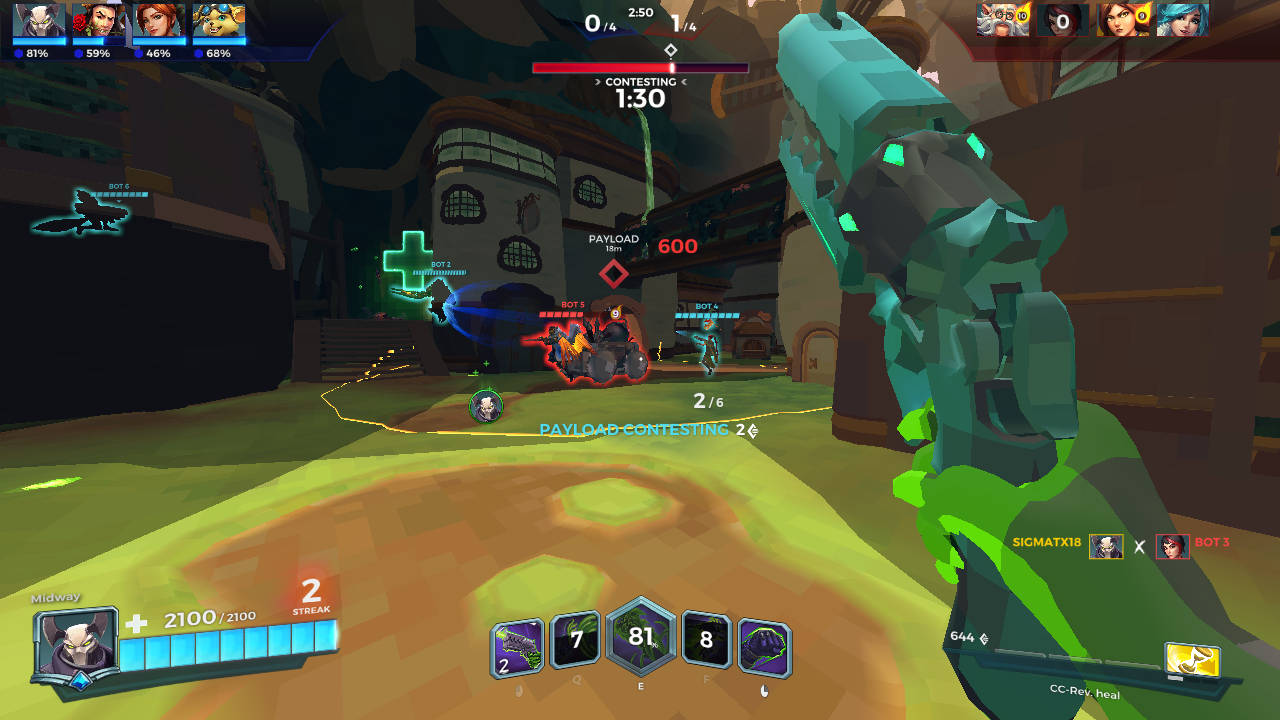model: (528, 319, 588, 388)
